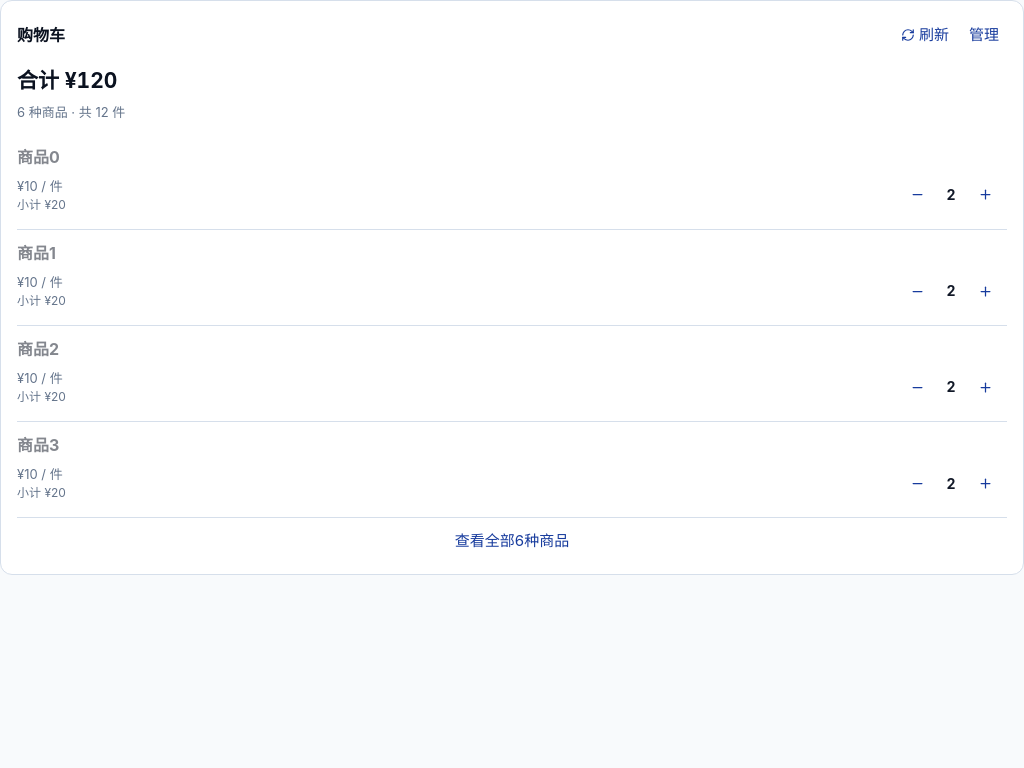
Test case: ResultList › keeps all cart totals visible while expanding and managing rows
Expected: the number of elements with class "cart-card" is 4, [17, 134, 1007, 230]; [17, 230, 1007, 326]; [17, 326, 1007, 422]; [17, 422, 1007, 518]
Expected: the element with class "cart-summary" shows "合计 ¥120", [17, 68, 117, 93]
Step 1. Click the button with class "summary-link" → (512, 540), box [17, 518, 1007, 562]
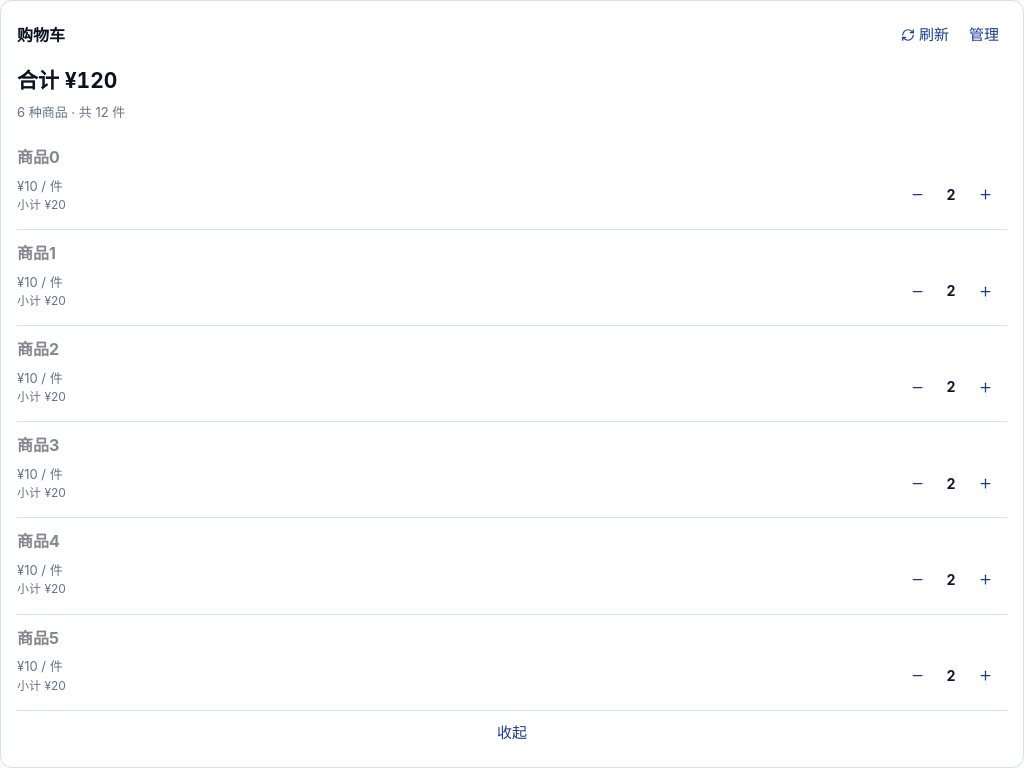
Now the number of elements with class "cart-card" is 6, box [17, 134, 1007, 230]; [17, 230, 1007, 326]; [17, 326, 1007, 422]; [17, 422, 1007, 518]; [17, 518, 1007, 615]; [17, 615, 1007, 711]
Step 2. Click the button "管理" → (984, 35), box [961, 13, 1007, 57]
(page scrolled)
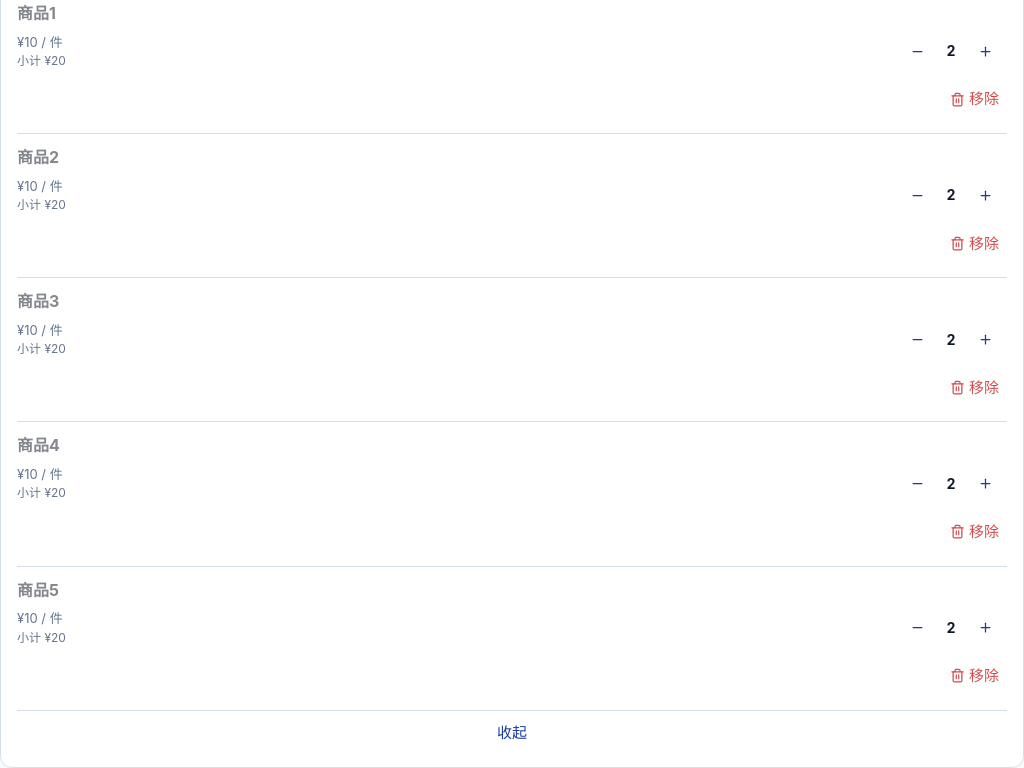
Now the number of elements with class "danger" is 6
Step 3. Click the button with class "summary-link" → (512, 733), box [17, 711, 1007, 755]
(page scrolled)
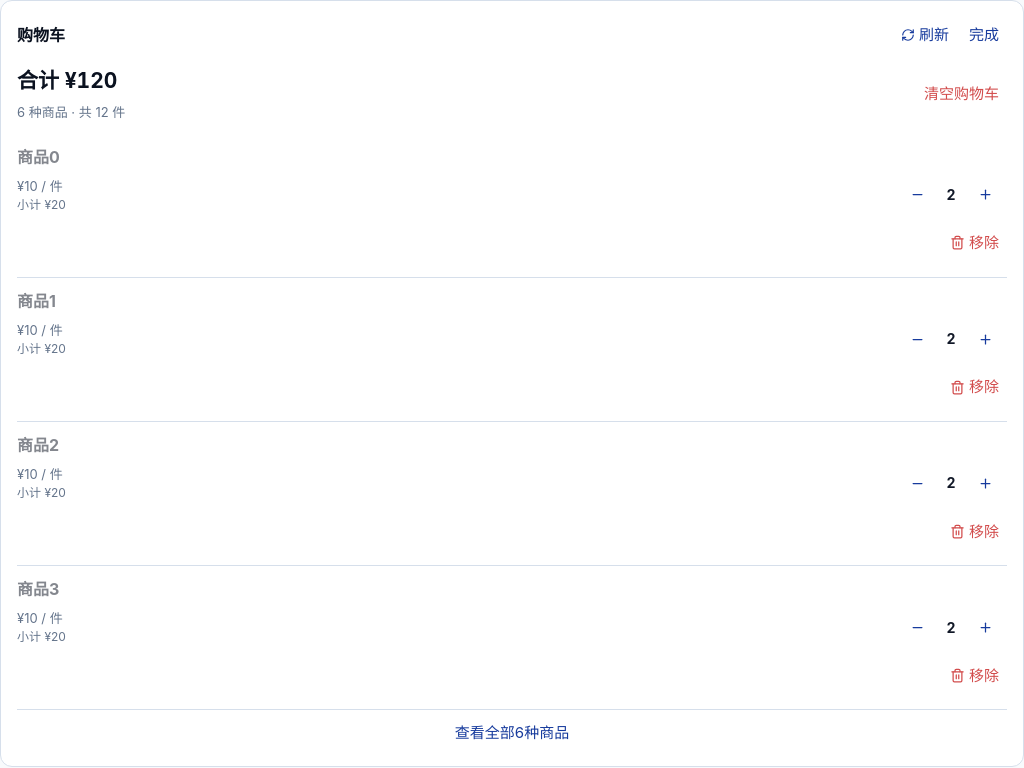
Now the number of elements with class "cart-card" is 4, box [17, 134, 1007, 278]; [17, 278, 1007, 422]; [17, 422, 1007, 566]; [17, 566, 1007, 710]
